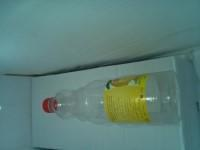bottle: (43, 70, 180, 128)
